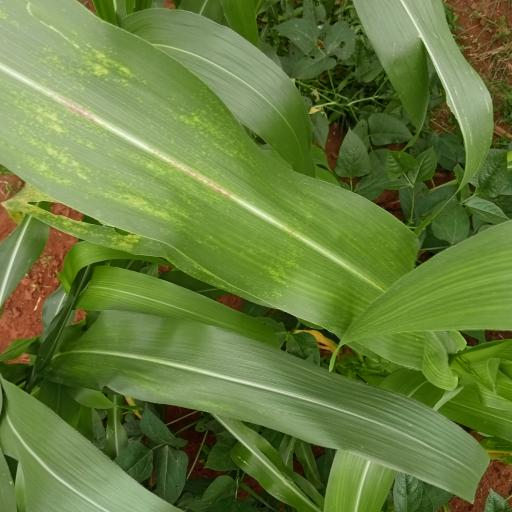Corn_Brown_Spots: (5, 0, 375, 302)
